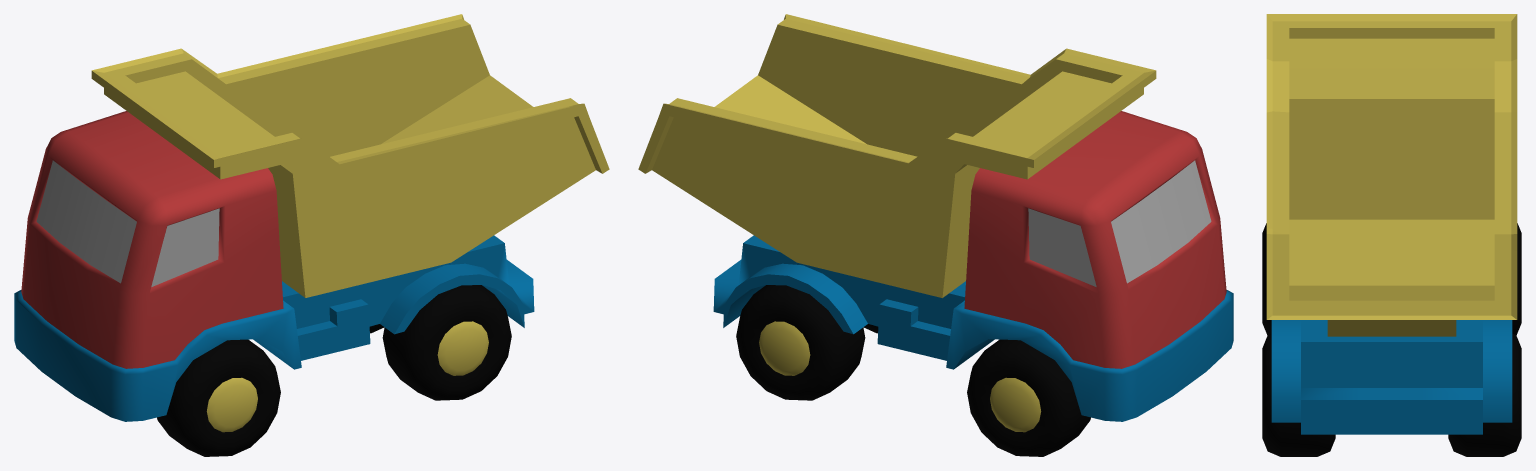
File: Toy_Truck.fbx
The picture shows the model from 3 angles, left to right: view 1: azimuth 30°, elevation 25°; view 2: azimuth 150°, elevation 25°; view 3: azimuth 270°, elevation 25°; orthographic projection. The views are drawn at different scales.
Visible parts, largest first — view 1: Toy_Truck; view 2: Toy_Truck; view 3: Toy_Truck.
Boxes of the visible parts, box(x1,y1,x2,y2) form: Toy_Truck: box(14, 14, 609, 456); Toy_Truck: box(638, 14, 1233, 456); Toy_Truck: box(1262, 14, 1521, 456).
Bounding box in the file's own units: 49.85 × 29.71 × 22.33.
